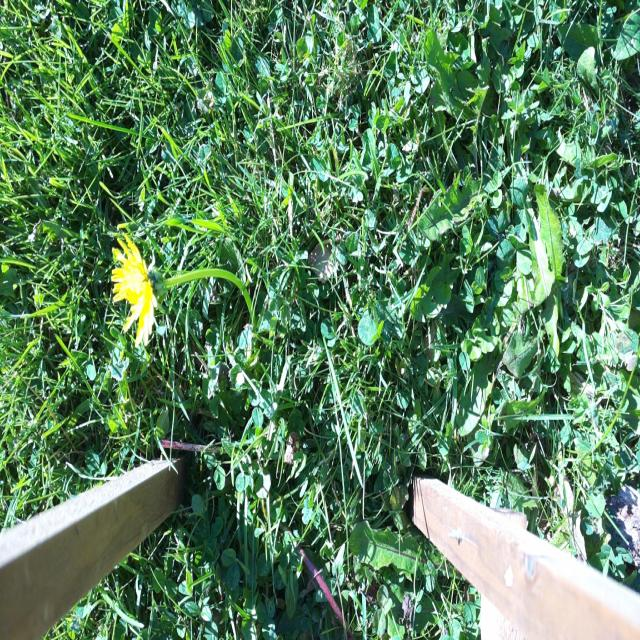base: (240, 303, 265, 345)
flower: (109, 241, 170, 342)
